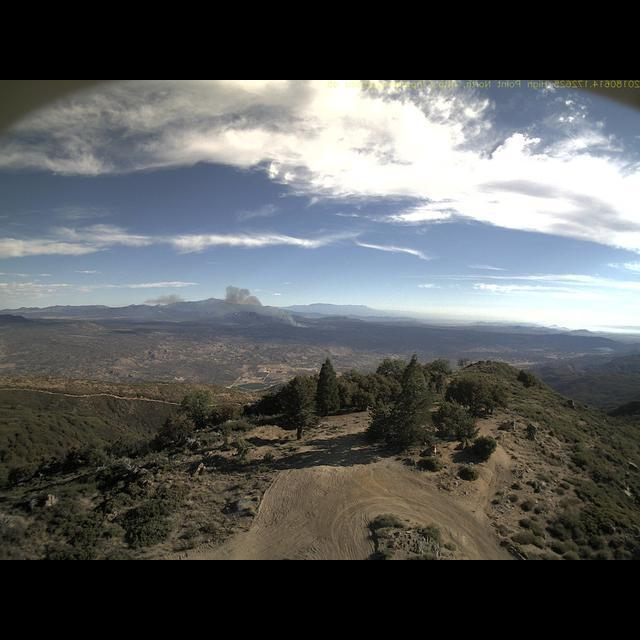Smoke: (223, 281, 310, 333)
